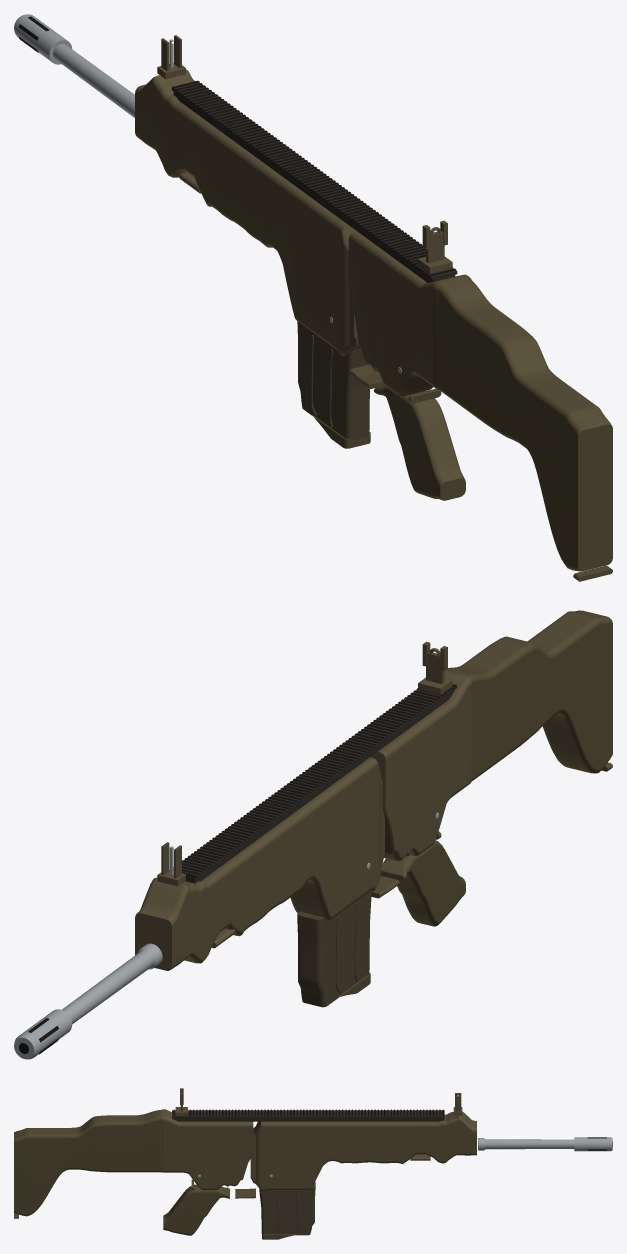
The model's file is ar-mald.glb.
3 renders of one model, top to bottom at view 1: azimuth 30°, elevation 25°; view 2: azimuth 150°, elevation 25°; view 3: azimuth 270°, elevation 25°, orthographic. The views are drawn at different scales.
Visible parts, largest first — view 1: SC_Body, SC_Mag, SC_Hider, SC_IronRear, SC_IronFront; view 2: SC_Body, SC_Mag, SC_Hider, SC_IronRear, SC_IronFront; view 3: SC_Body, SC_Mag, SC_Hider.
Part boxes in pixels (x1,y1,x2,y2): SC_Body: (53, 44, 612, 581); SC_Mag: (297, 321, 370, 448); SC_Hider: (14, 14, 72, 64); SC_IronRear: (418, 220, 452, 273); SC_IronFront: (157, 35, 185, 79); SC_Body: (62, 610, 612, 1023); SC_Mag: (297, 891, 371, 1007); SC_Hider: (14, 1009, 72, 1059); SC_IronRear: (418, 641, 452, 694); SC_IronFront: (157, 842, 185, 886); SC_Body: (14, 1109, 574, 1235); SC_Mag: (259, 1182, 315, 1239); SC_Hider: (574, 1137, 612, 1151).
Bounding box in the file's own units: 0.0378 × 0.2577 × 0.9614.
